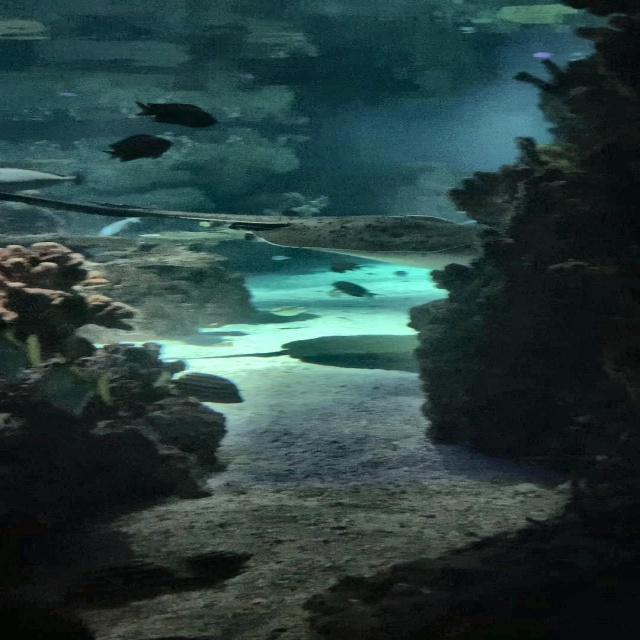fish: (34, 363, 111, 413), (128, 98, 221, 131), (164, 370, 244, 405), (0, 164, 87, 194), (99, 131, 177, 164), (0, 326, 40, 372), (329, 279, 380, 300), (266, 302, 318, 319), (324, 259, 364, 274), (270, 256, 291, 261)
stingray: (248, 214, 504, 271)
